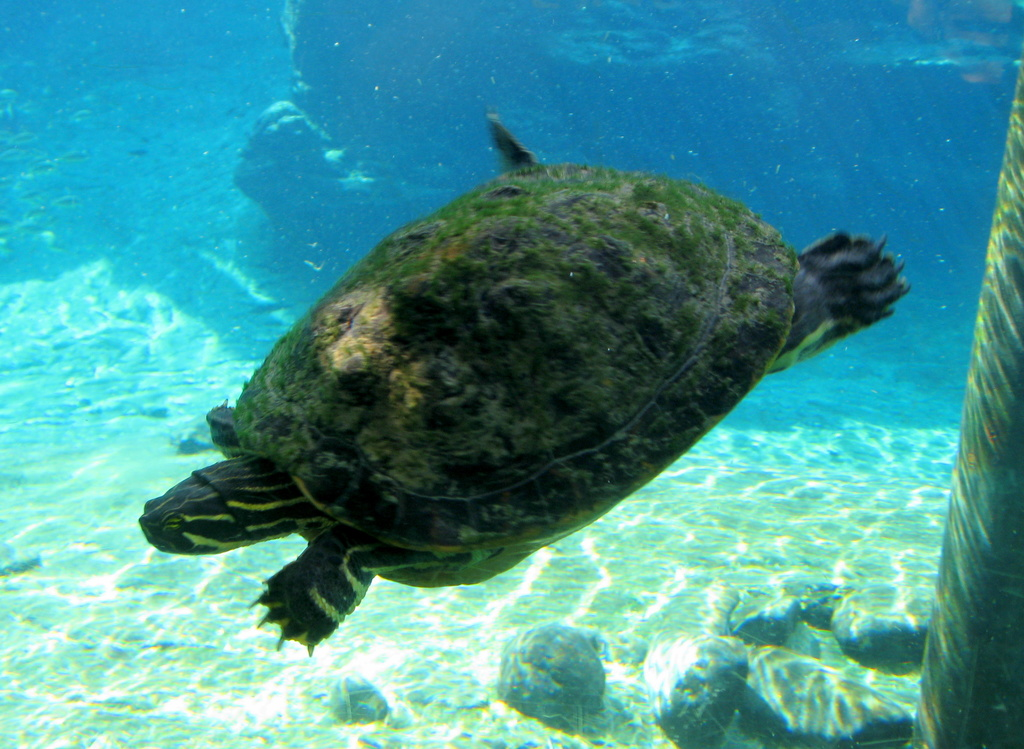Sea turtles: (127, 106, 912, 658)
